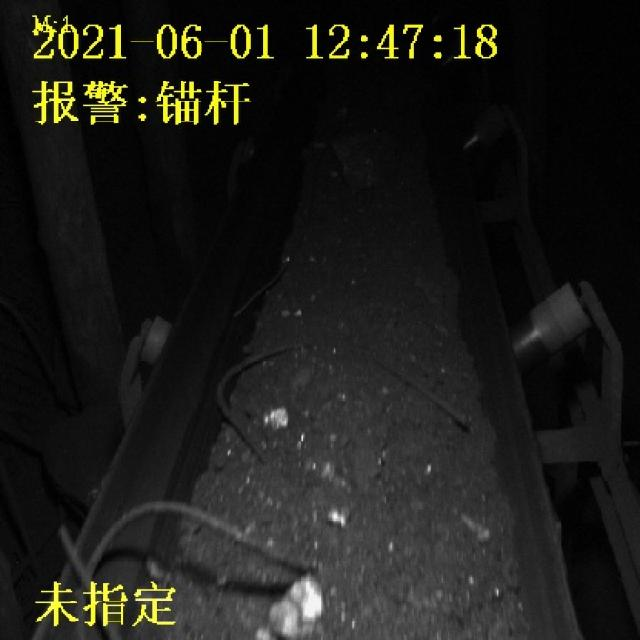bolt: (55, 497, 331, 629), (208, 340, 468, 466)
large_sized_coal: (268, 575, 340, 640)
